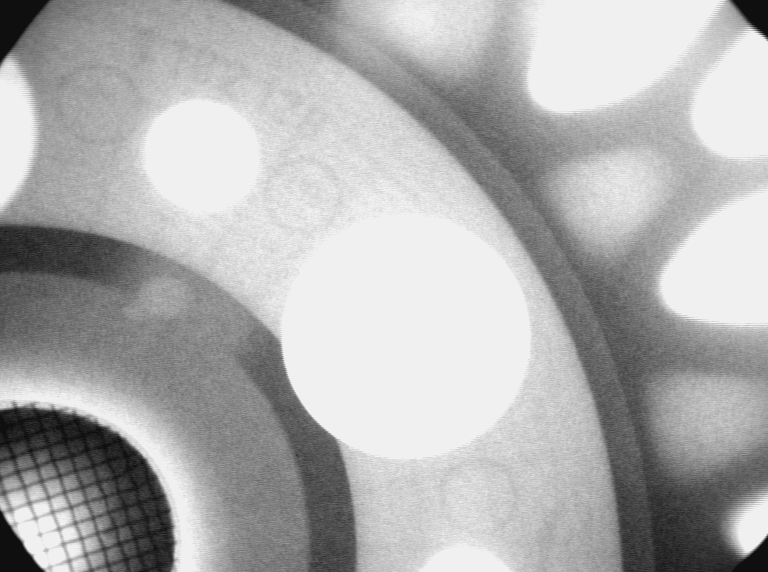defect: (120, 273, 193, 330)
